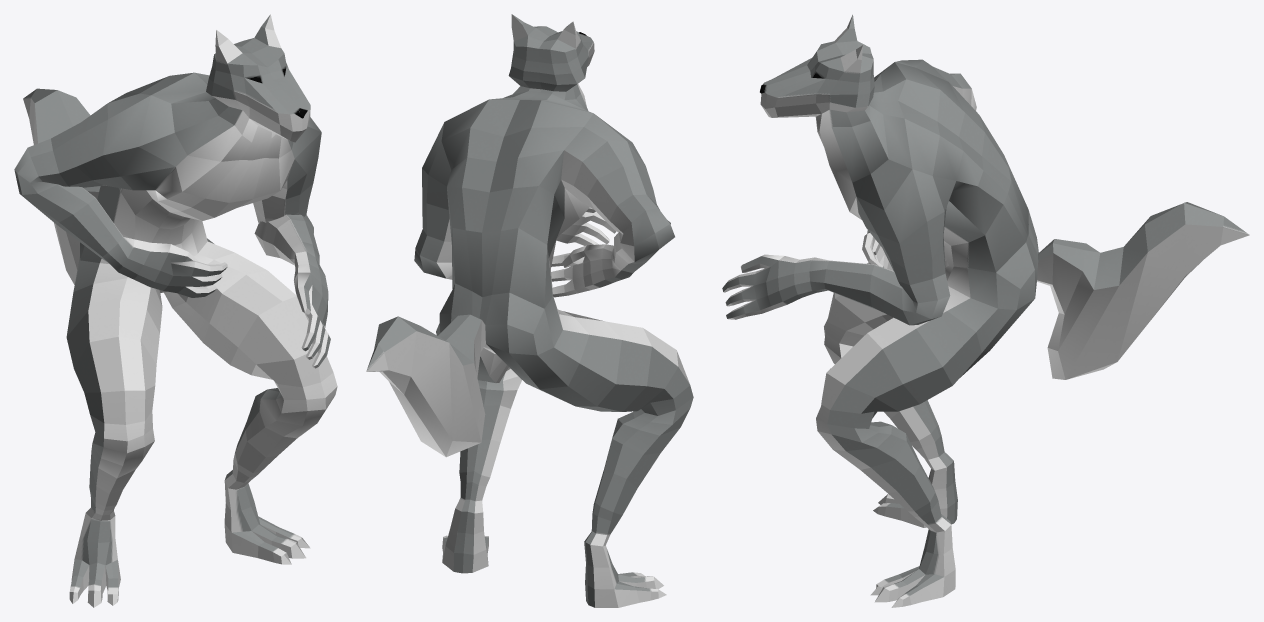
File: WolfIdle_(65).obj
The picture shows the model from 3 angles, left to right: view 1: azimuth 30°, elevation 25°; view 2: azimuth 150°, elevation 25°; view 3: azimuth 270°, elevation 25°; orthographic projection. The views are drawn at different scales.
Visible parts, largest first — view 1: Box001; view 2: Box001; view 3: Box001.
Part boxes in pixels (x1,y1,x2,y2): Box001: [14, 14, 337, 607]; Box001: [366, 14, 693, 607]; Box001: [722, 14, 1249, 607].
Size of the model in its own units: 68.22 by 132 by 116.
